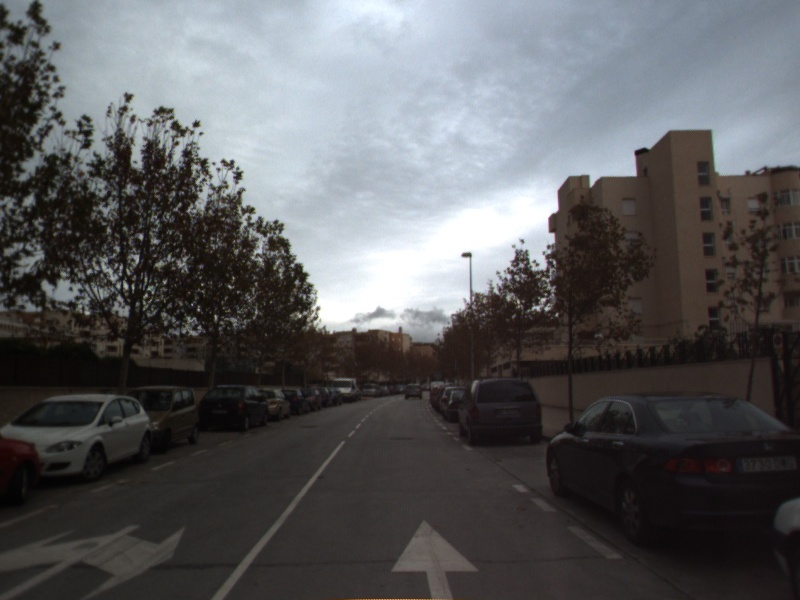STRAIGHT: (388, 516, 484, 600)
